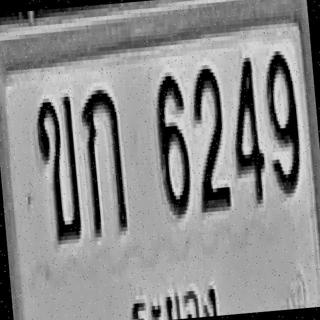A01: (79, 85, 128, 238)
A02: (33, 92, 82, 242)
N02: (189, 64, 230, 212)
N04: (226, 53, 268, 205)
N06: (152, 71, 193, 215)
N09: (262, 46, 303, 194)
